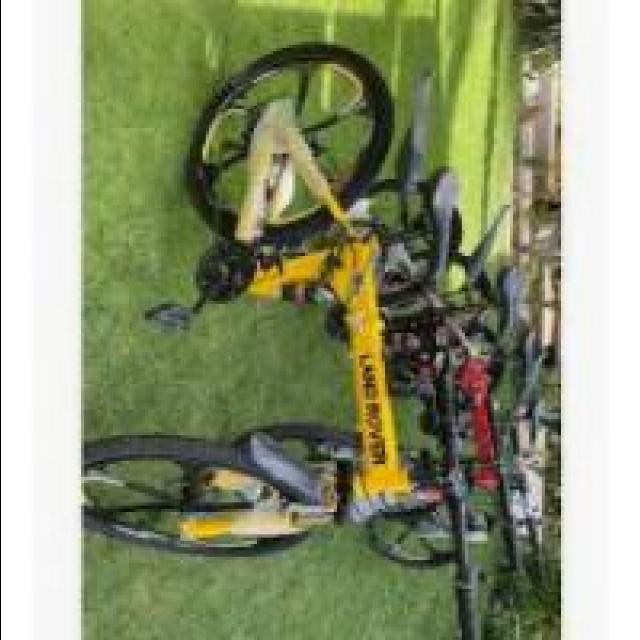bicycle: (85, 43, 475, 606)
